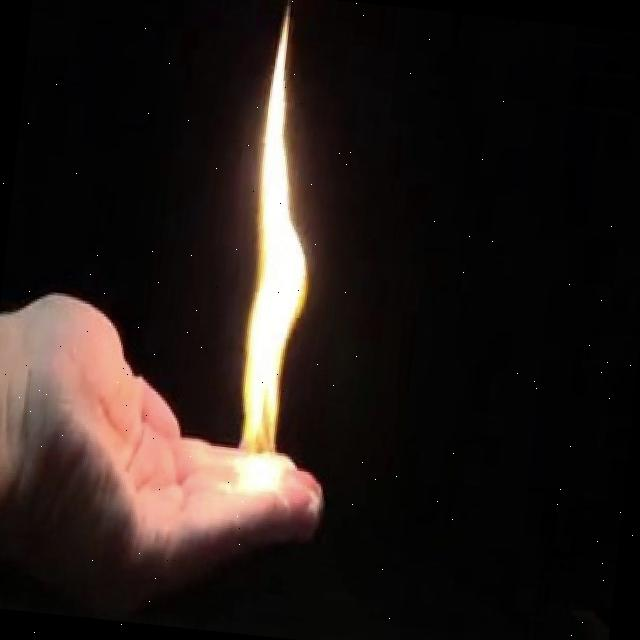fire: (207, 147, 319, 524)
